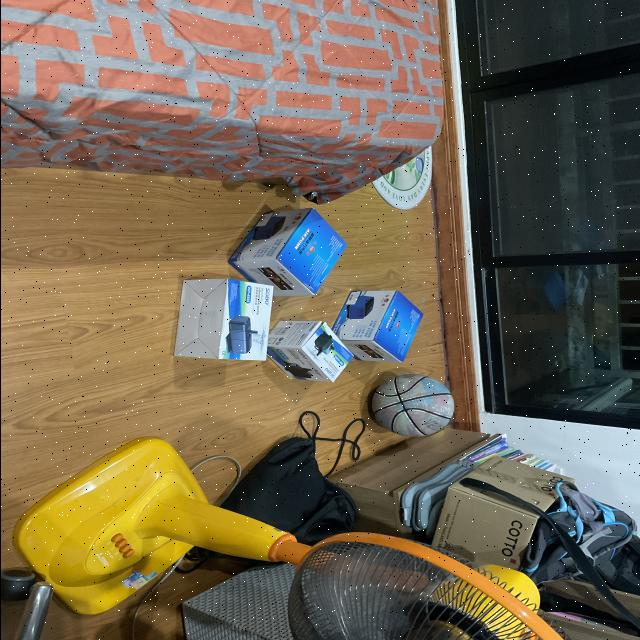SOBO_WP_4200: (165, 267, 295, 373), (261, 316, 363, 398)
YAMANO_LPP_20: (234, 205, 362, 298), (334, 281, 441, 369)
